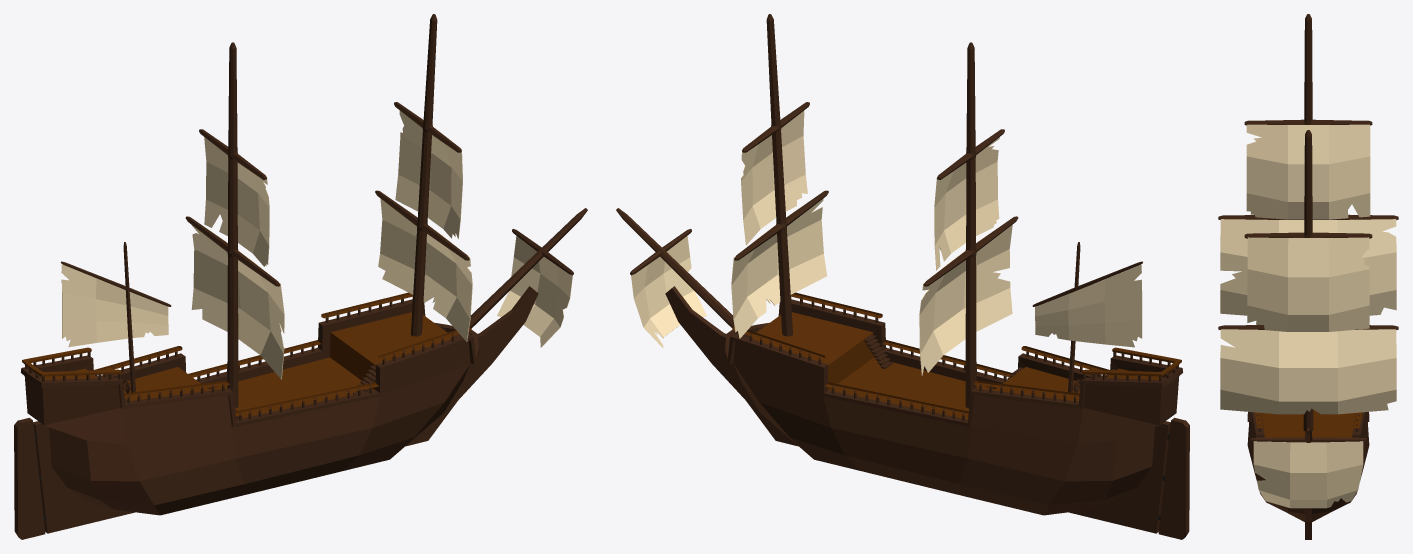
Rendered from Fluyt_Derfflinger_low_poly (1).fbx.
3 renders of one model, left to right at view 1: azimuth 30°, elevation 25°; view 2: azimuth 150°, elevation 25°; view 3: azimuth 270°, elevation 25°, orthographic. The views are drawn at different scales.
Visible parts, largest first — view 1: Cube; view 2: Cube; view 3: Cube.
Boxes of the visible parts, x1=… form: Cube: x1=14, y1=14, x2=587, y2=539; Cube: x1=616, y1=14, x2=1189, y2=539; Cube: x1=1218, y1=14, x2=1398, y2=539.
Bounding box in the file's own units: 2581 × 6842 × 9222.
